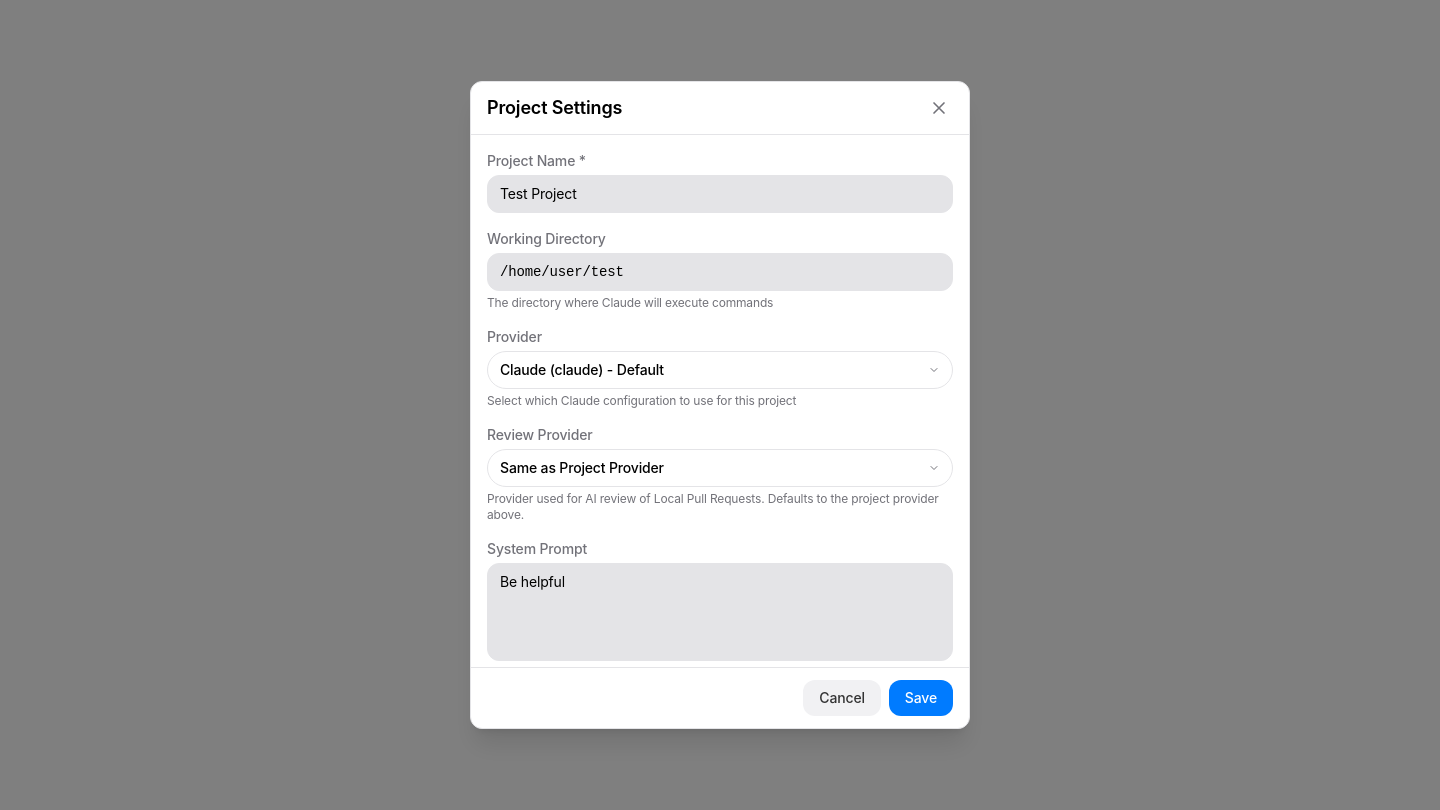
Test: ProjectSettings › toggles permission override on/off
This screenshot has width=1440, height=810.
Click the button "Claude (claude) - Default" at point(582, 370), box [487,351,953,389]
(page scrolled)
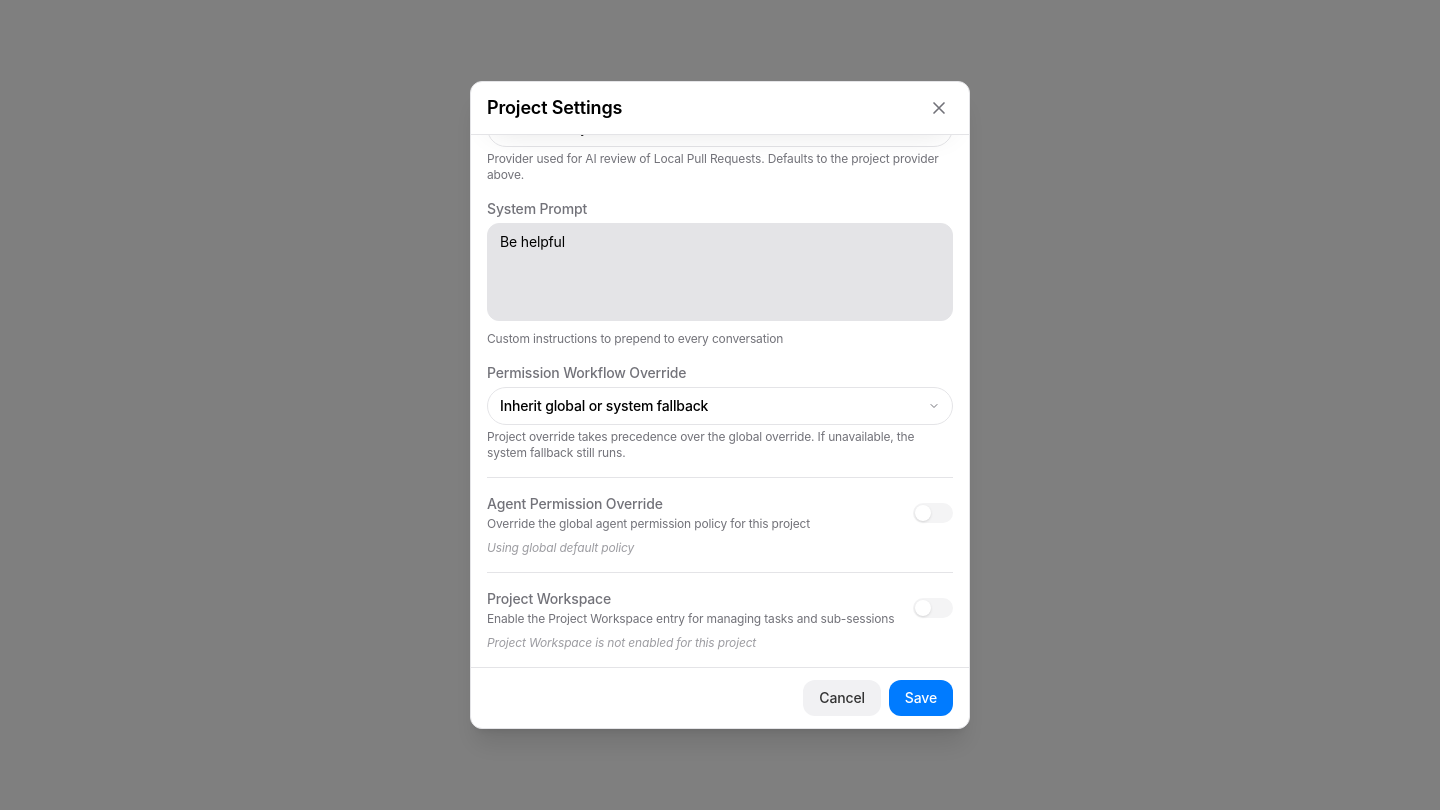
expect the text "Agent Permission Override" is shown: met, box [487,495,663,512]
